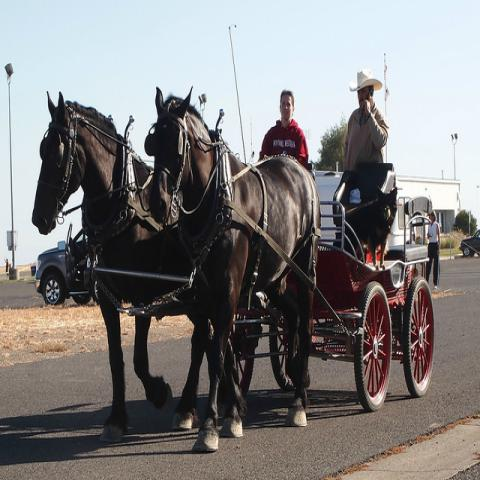car: (34, 225, 96, 305), (459, 229, 479, 258)
truck: (35, 223, 97, 308), (458, 227, 480, 257)
